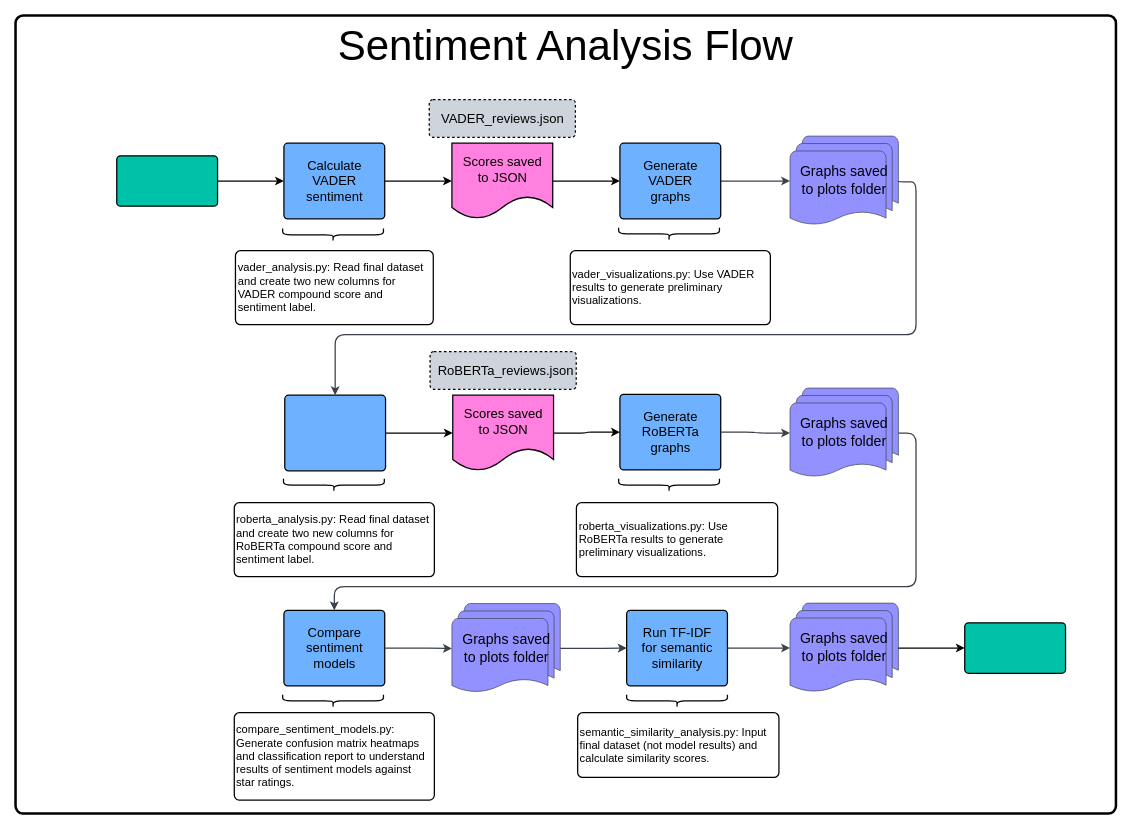
Some shapes in this 1131 by 829 pixel diagram are drawn without their labels. The centre of each missing label's shape, as x and y in pixels:
"Calculate RoBERTA sentiment" belongs at pixel 335 432.
"End" belongs at pixel 1015 648.
"Start" belongs at pixel 167 180.
